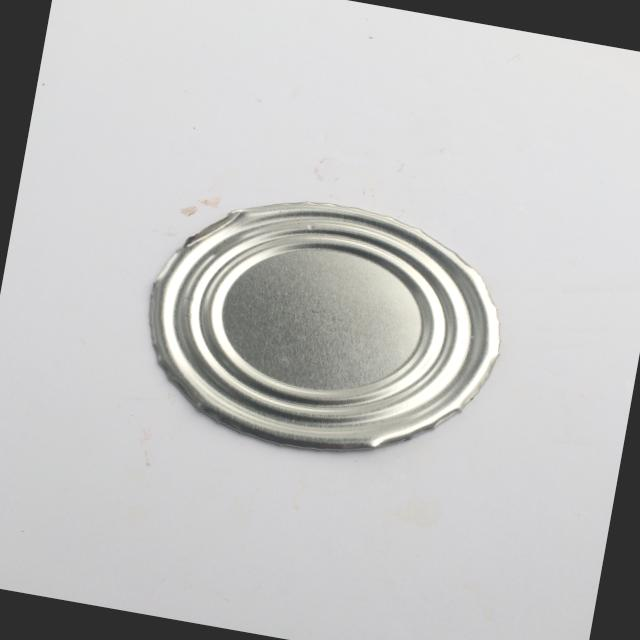Metal: (105, 164, 529, 493)
